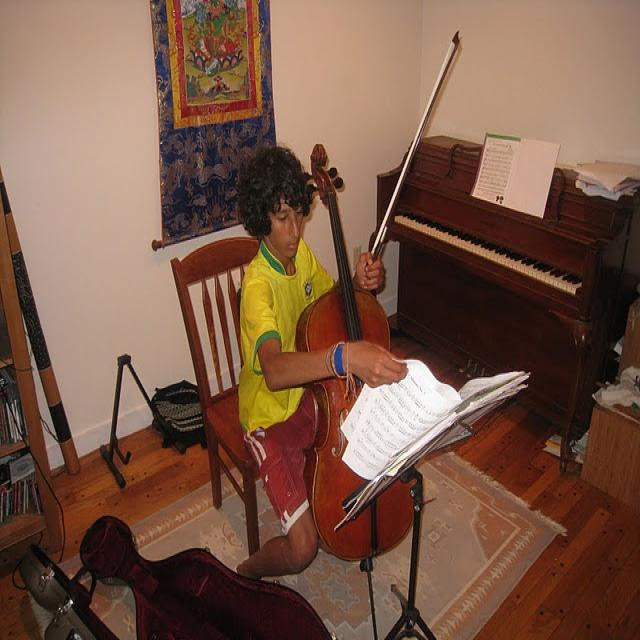cello: (295, 142, 414, 566)
